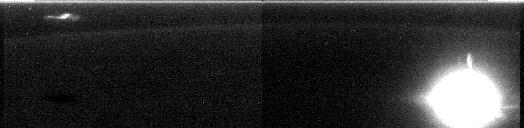positive: (462, 51, 476, 71)
